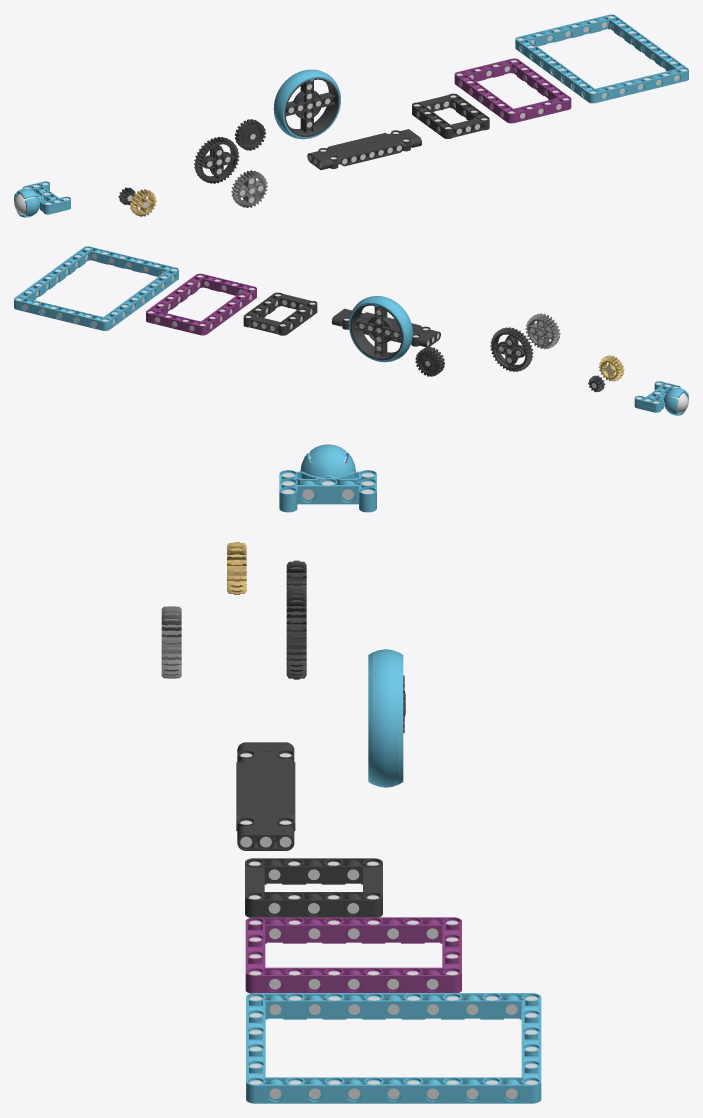
The model's file is BigStuff Udula.fbx.
3 renders of one model, top to bottom at view 1: azimuth 30°, elevation 25°; view 2: azimuth 150°, elevation 25°; view 3: azimuth 270°, elevation 25°, orthographic. The views are drawn at different scales.
Parts seen in each view (by area): view 1: Technic Frame 11x15, Technic Frame 7x11, Wheel, Flat Panel, Technic Frame 5x7, Gear Wheel z36, Ball Cup, Gear Wheel z28, Small Wheel, Gear Wheel z20; view 2: Technic Frame 11x15, Technic Frame 7x11, Wheel, Technic Frame 5x7, Gear Wheel z36, Ball Cup, Flat Panel, Gear Wheel z28, Small Wheel, Gear Wheel z20; view 3: Technic Frame 11x15, Technic Frame 7x11, Technic Frame 5x7, Flat Panel, Wheel, Ball Cup, Gear Wheel z36, Gear Wheel z28, Gear Wheel z20.
Part boxes in pixels (x1,y1,x2,y2): Technic Frame 11x15: [515, 14, 688, 103]; Technic Frame 7x11: [454, 58, 571, 123]; Wheel: [273, 69, 340, 139]; Flat Panel: [307, 129, 421, 169]; Technic Frame 5x7: [412, 93, 489, 138]; Gear Wheel z36: [194, 136, 239, 183]; Ball Cup: [14, 181, 70, 217]; Gear Wheel z28: [231, 170, 267, 207]; Small Wheel: [235, 119, 265, 150]; Gear Wheel z20: [129, 189, 156, 216]; Technic Frame 11x15: [14, 246, 178, 330]; Technic Frame 7x11: [146, 273, 256, 335]; Wheel: [349, 296, 412, 362]; Technic Frame 5x7: [243, 292, 317, 335]; Gear Wheel z36: [490, 327, 533, 371]; Ball Cup: [634, 381, 688, 415]; Flat Panel: [331, 308, 440, 347]; Gear Wheel z28: [525, 313, 560, 349]; Small Wheel: [415, 346, 444, 376]; Gear Wheel z20: [598, 355, 624, 381]; Technic Frame 11x15: [246, 993, 541, 1103]; Technic Frame 7x11: [245, 917, 461, 993]; Technic Frame 5x7: [245, 858, 382, 917]; Flat Panel: [236, 742, 295, 850]; Wheel: [368, 649, 403, 787]; Ball Cup: [279, 444, 376, 512]; Gear Wheel z36: [286, 587, 306, 679]; Gear Wheel z28: [161, 606, 181, 678]; Gear Wheel z20: [227, 542, 246, 594].
Size of the model in its own units: 5762 by 558 by 1523.
